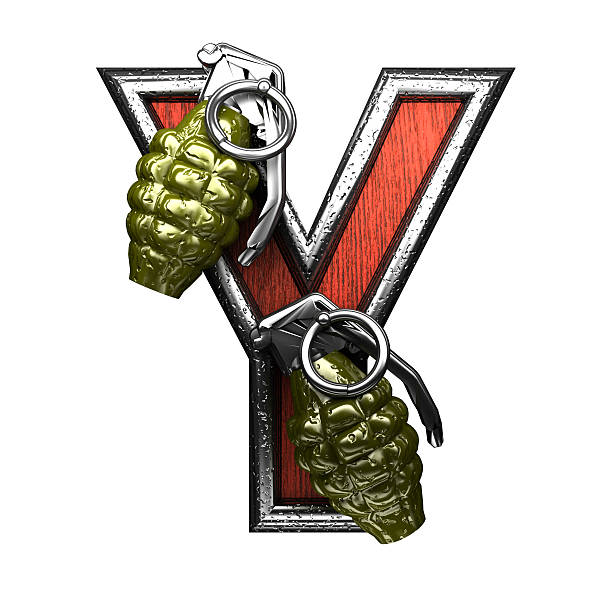e1: (254, 294, 446, 553), (119, 41, 295, 299)
